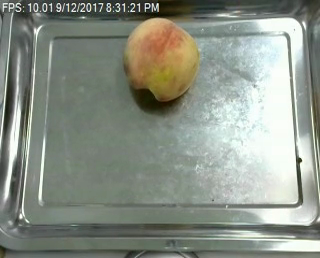Peach: (123, 17, 200, 102)
